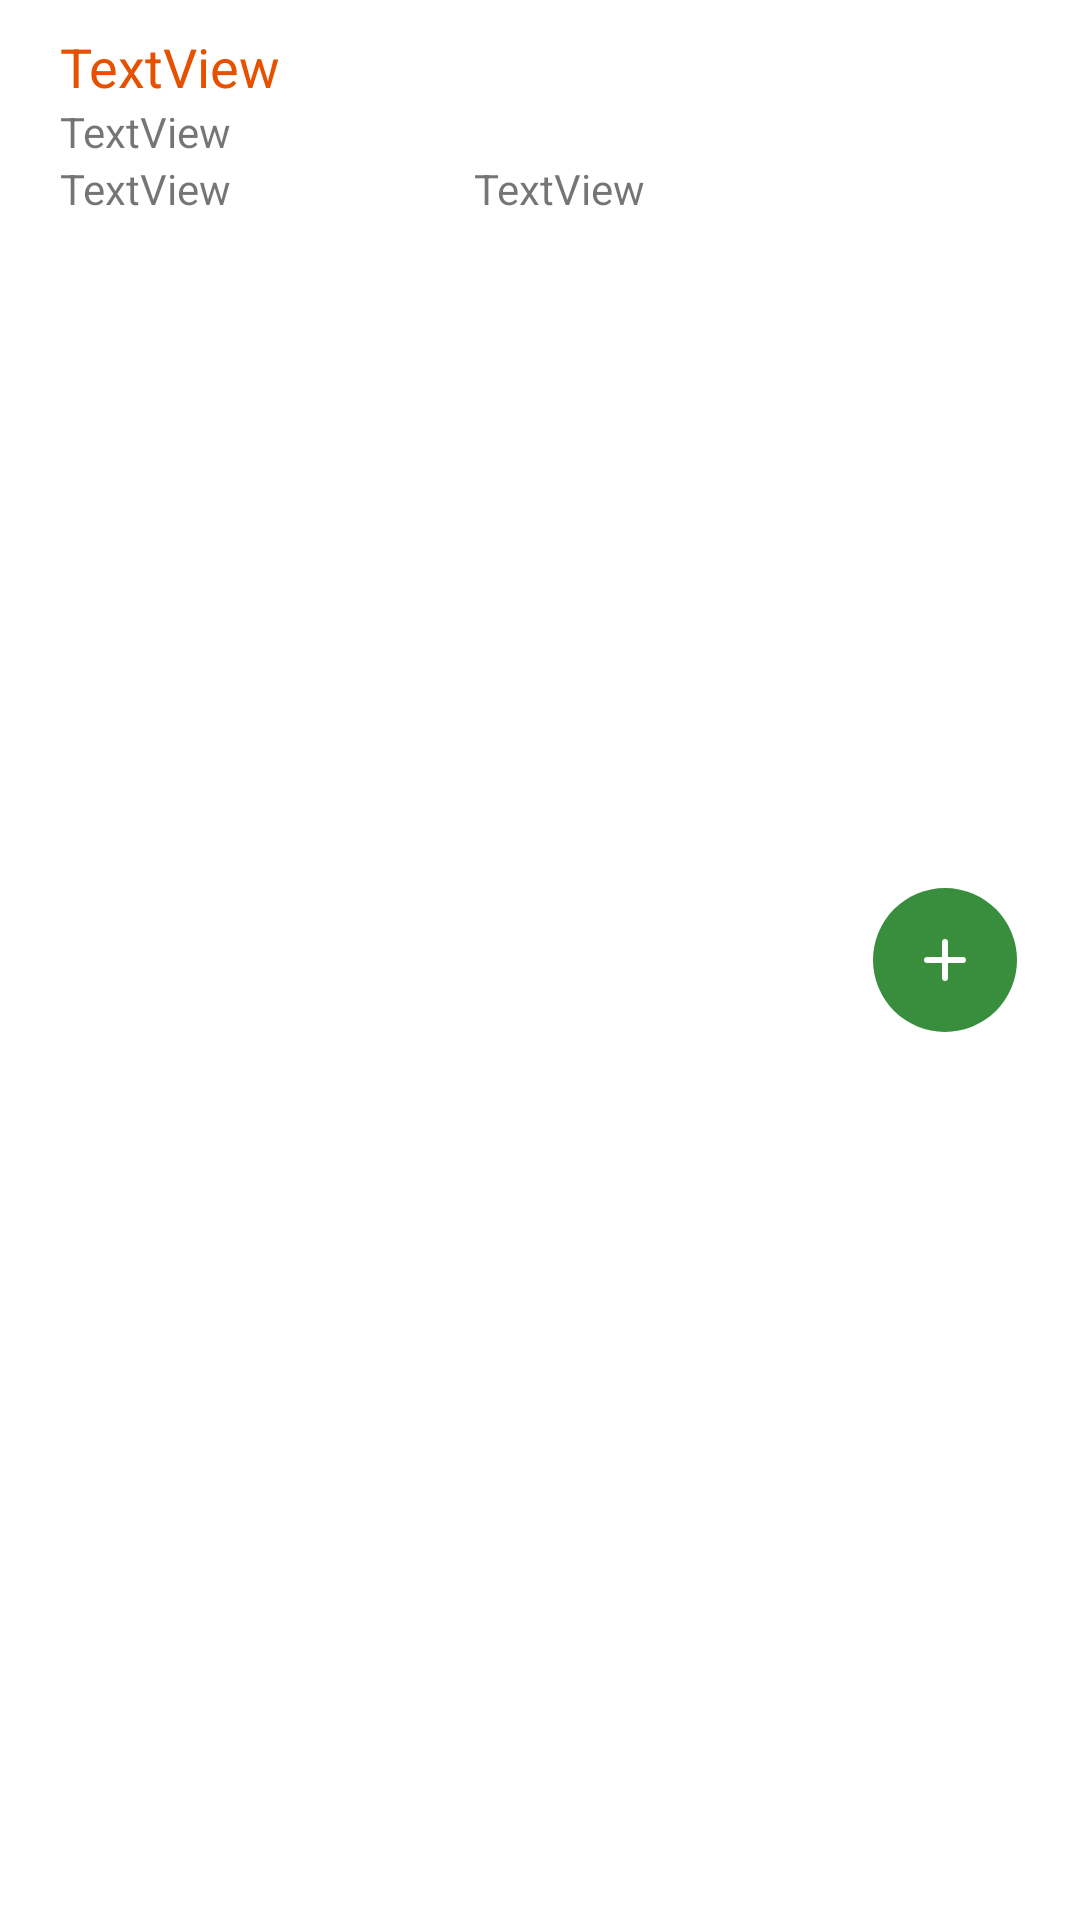

Point at icon controls on the screen. Image size 1080*1920, points as point (x, y).
Agregar invitado: point (945, 960)
